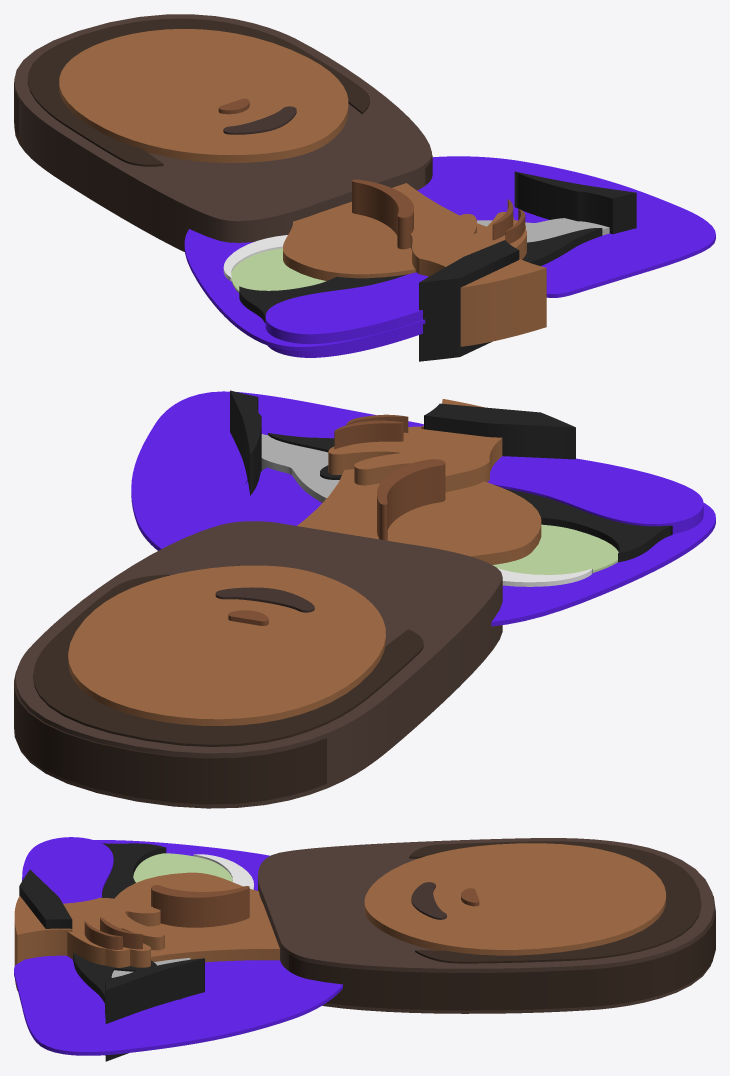
Rendered from emoji_u1f931_1f3fe.glb.
3 renders of one model, top to bottom at view 1: azimuth 30°, elevation 25°; view 2: azimuth 150°, elevation 25°; view 3: azimuth 270°, elevation 25°, orthographic. The views are drawn at different scales.
Parts seen in each view (by area): view 1: emoji_u1f931_1f3fe; view 2: emoji_u1f931_1f3fe; view 3: emoji_u1f931_1f3fe.
Part boxes in pixels (x1=…): emoji_u1f931_1f3fe: x1=14, y1=14, x2=715, y2=361; emoji_u1f931_1f3fe: x1=14, y1=390, x2=715, y2=808; emoji_u1f931_1f3fe: x1=14, y1=837, x2=715, y2=1061.
Bounding box in the file's own units: 0.0242 × 0.0046 × 0.0339.
